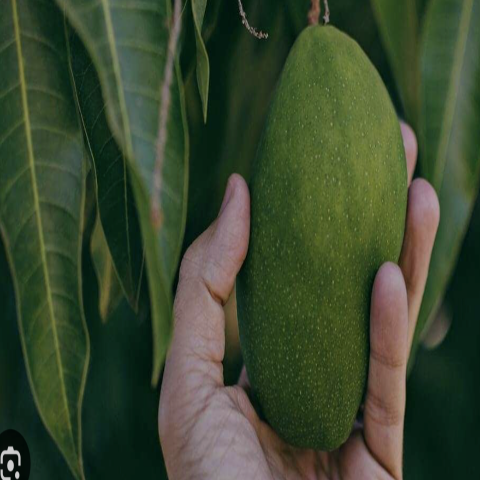mango: (205, 5, 463, 466)
